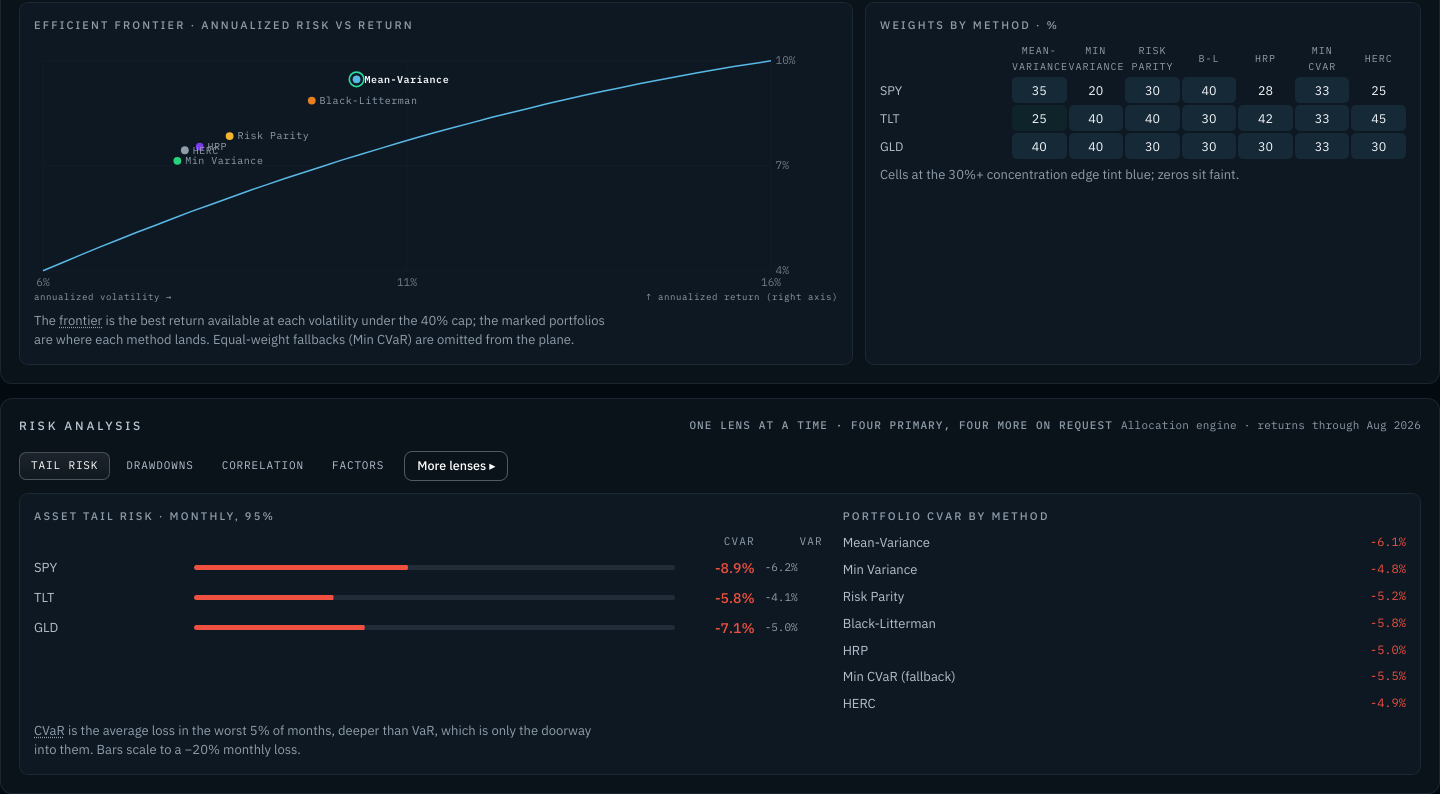
Test: RiskLenses (checklist 09 E.1 row 9) › StateNotes: drawdowns without columns
This screenshot has width=1440, height=794.
(page scrolled)
Expected: the element with id "allocation-risk" is shown, [0, 398, 1439, 793]
Expected: the element named "Risk lens" is shown, [19, 452, 396, 480]
Click the button "Drawdowns".
click(160, 466)  # box [114, 452, 206, 480]
(page scrolled)
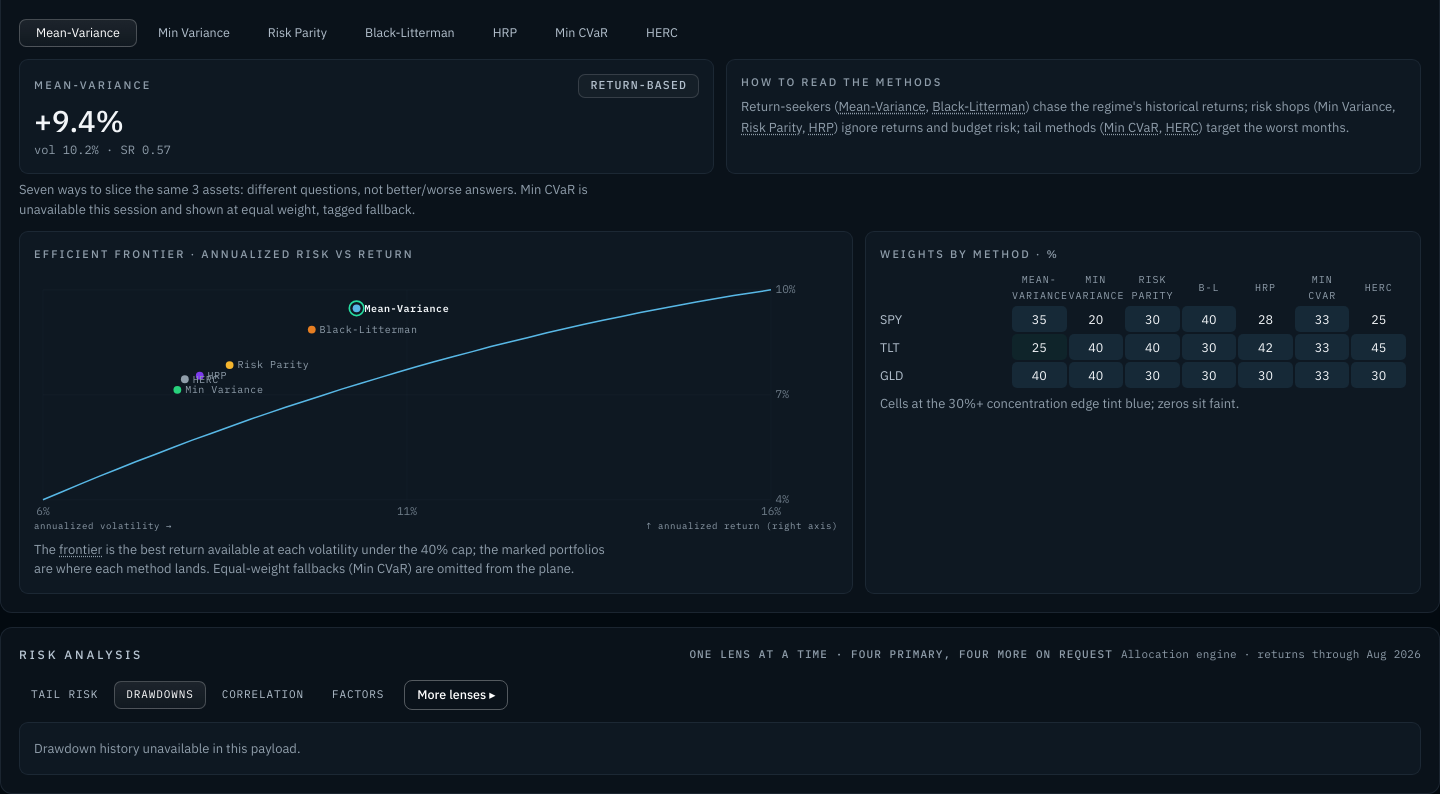
Expected: the element with id "allocation-risk" shows "Drawdown history unavailable in this payload.", [34, 740, 300, 757]
